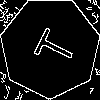T: (25, 22, 79, 70)
